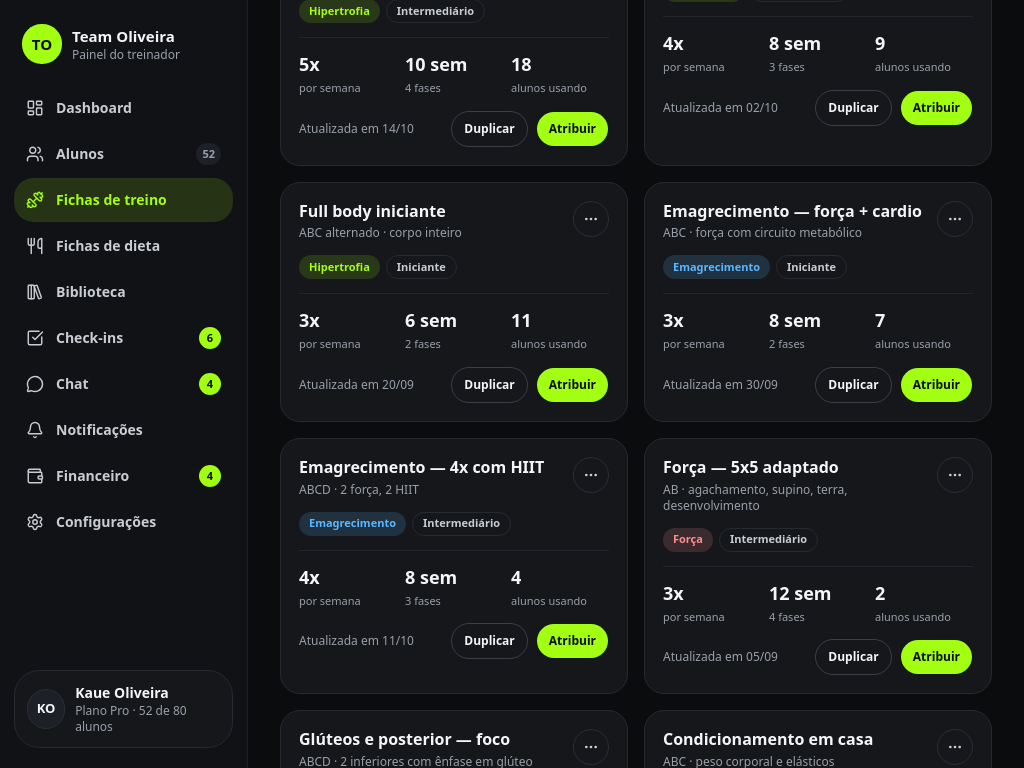
Test: Fichas de treino › duplicar e arquivar
(page scrolled)
Step 1. Click the button with aria-label "Duplicar Full body iniciante" → x=490, y=385, box [451,367,528,403]
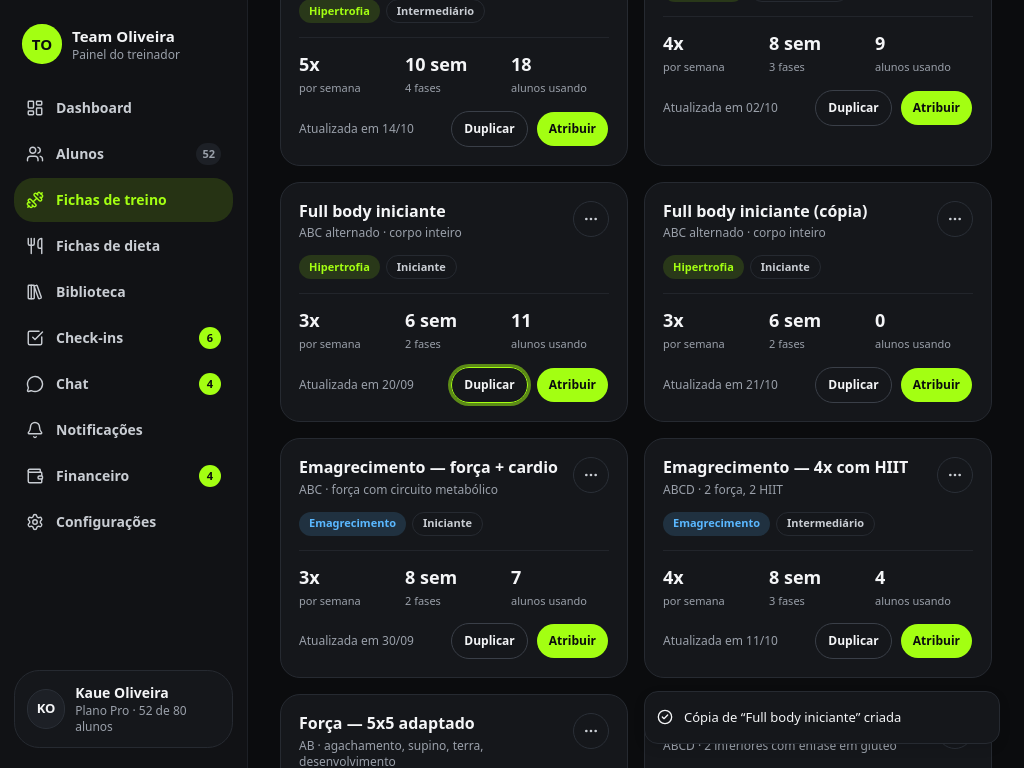
Expected: the text "Cópia de “Full body iniciante” criada" is shown, [684,708,901,727]
Step 2. Click the button named "Mais ações para Força — 5x5 adaptado" → x=591, y=731, box [573,713,609,749]
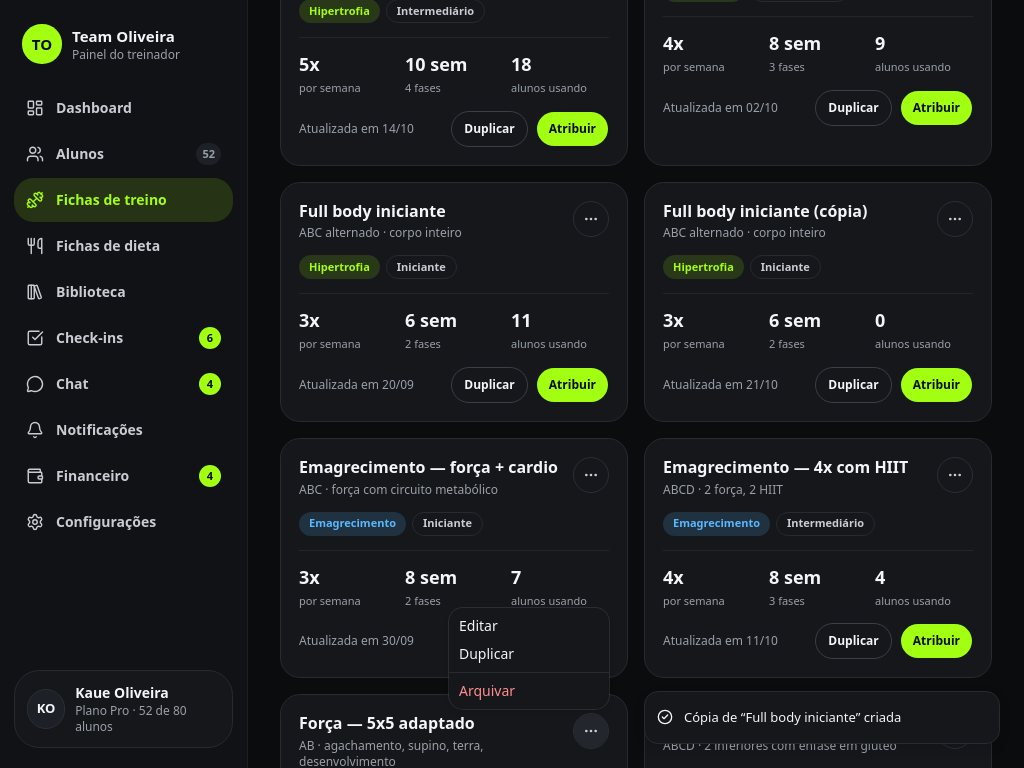
Step 3. Click the menu item "Arquivar" → x=487, y=690, box [459,681,515,700]
(page scrolled)
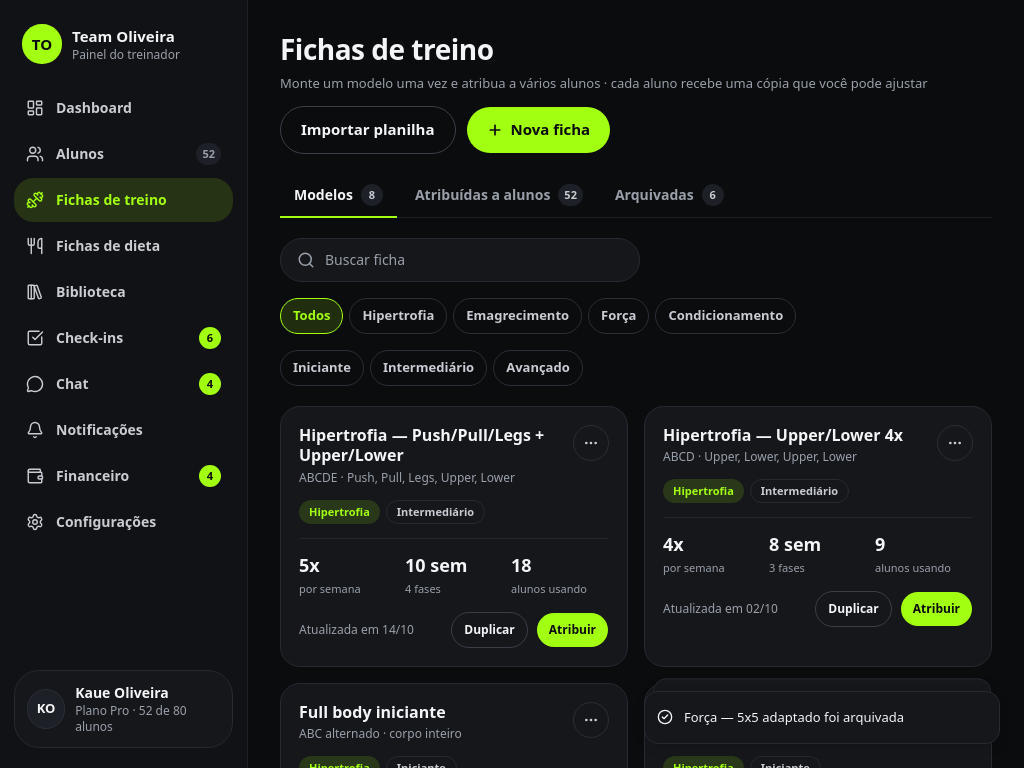
Expected: the text "Força — 5x5 adaptado foi arquivada" is shown, [684,708,904,727]
Step 4. Click the tab "Arquivadas 6" → x=669, y=196, box [601,174,738,218]
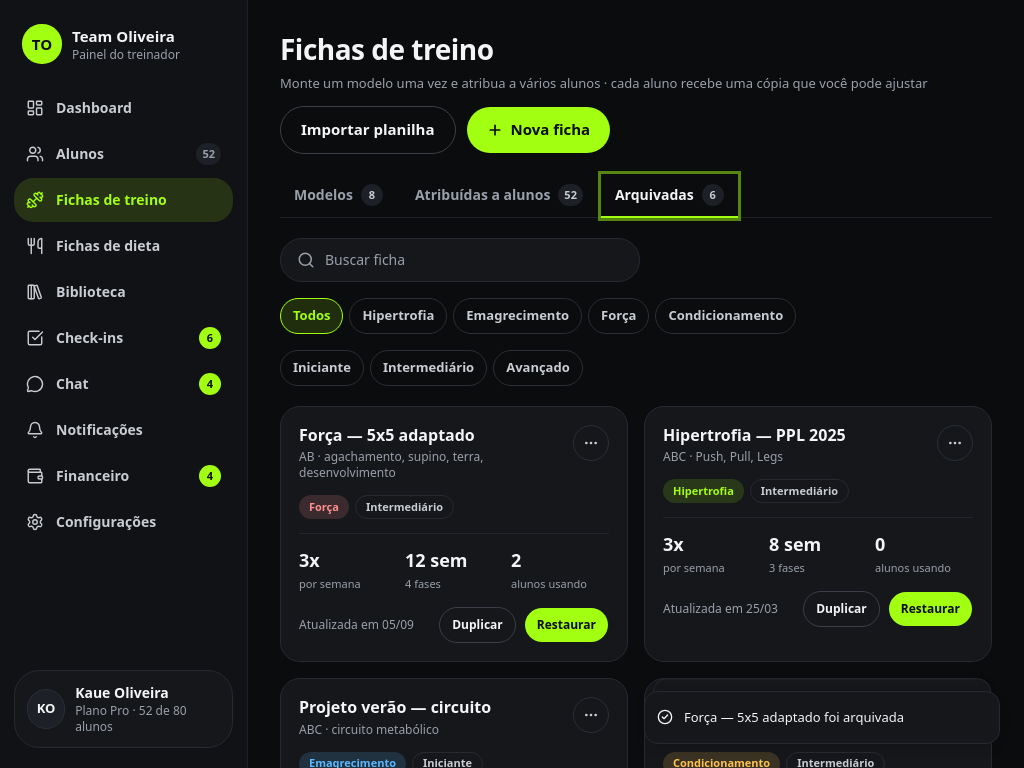
Step 5. Click the button "Restaurar" in the row of "05/09" → x=566, y=625, box [524,607,609,643]
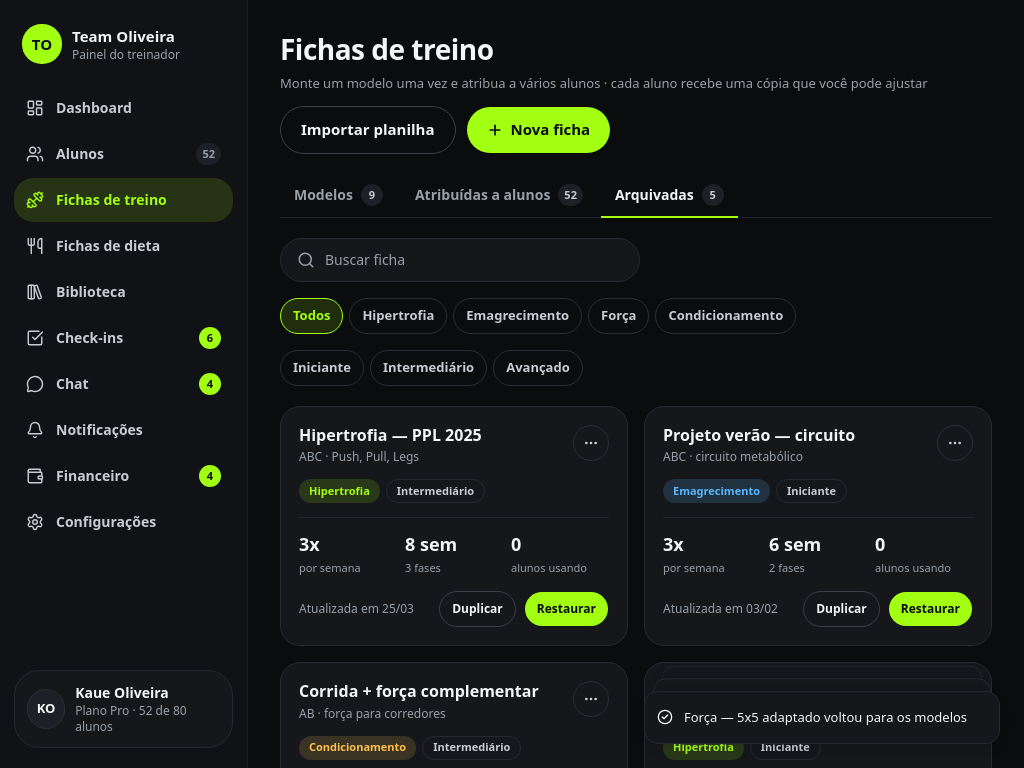
Expected: the text "Força — 5x5 adaptado voltou para os modelos" is shown, [684,708,967,727]
